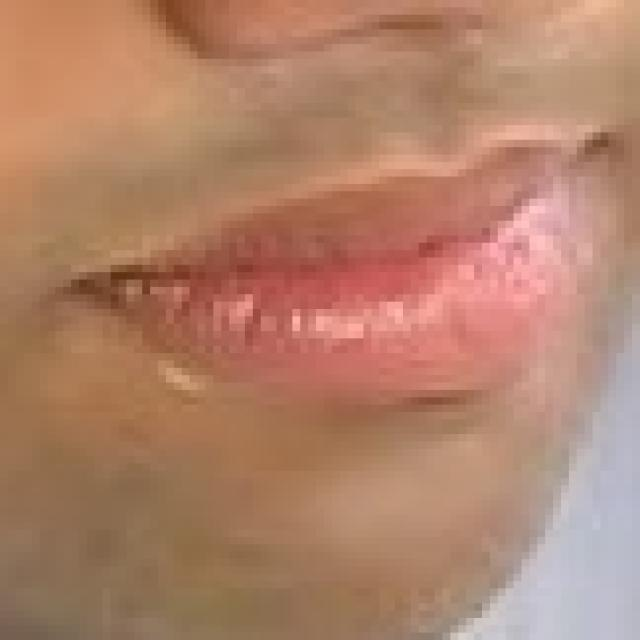closed-mouth: (55, 125, 600, 405)
